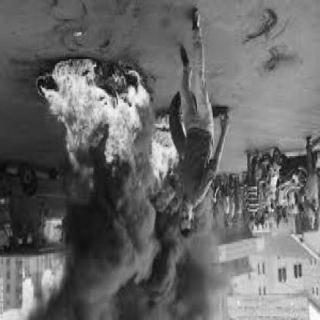Smoke: (52, 206, 231, 320)
